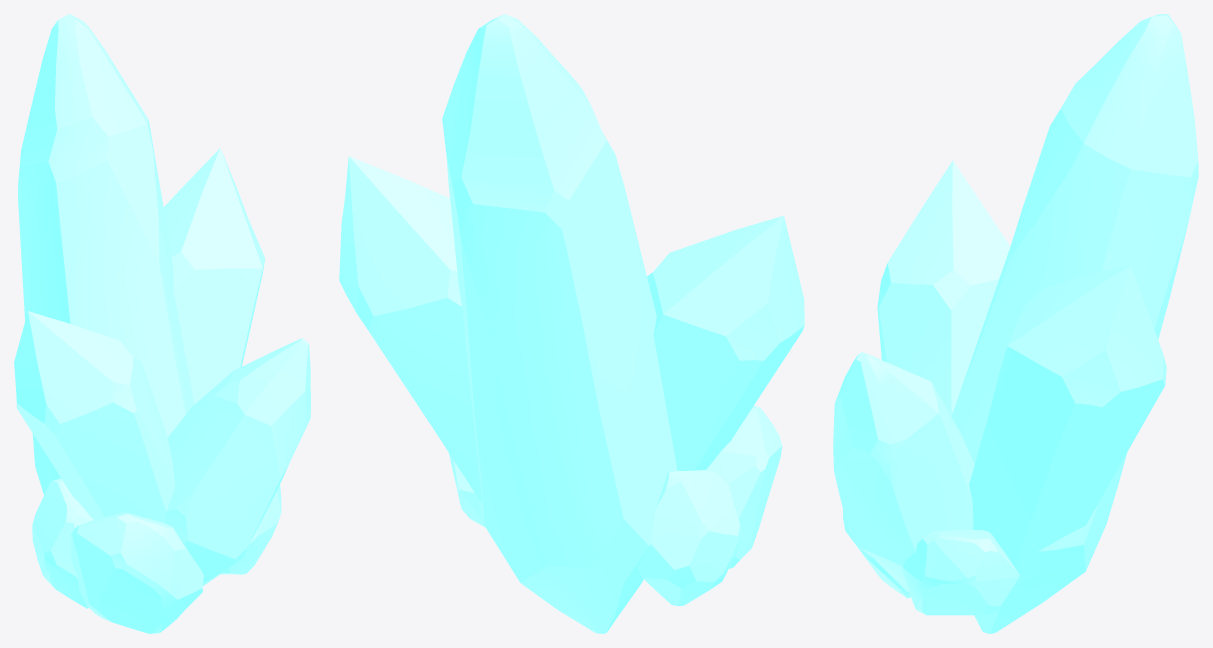
Rendered from Crystal3.FBX.
3 views of the same model, side by side, from view 1: azimuth 30°, elevation 25°; view 2: azimuth 150°, elevation 25°; view 3: azimuth 270°, elevation 25° (orthographic). The views are drawn at different scales.
Visible parts, largest first — view 1: Cristalli_3; view 2: Cristalli_3; view 3: Cristalli_3.
Boxes of the visible parts, bbox=[...] form: Cristalli_3: bbox=[14, 14, 310, 633]; Cristalli_3: bbox=[339, 14, 804, 633]; Cristalli_3: bbox=[833, 14, 1198, 633].
Size of the model in its own units: 9.99 by 17.91 by 9.58.
Materials: 1 (1 with a texture image).
